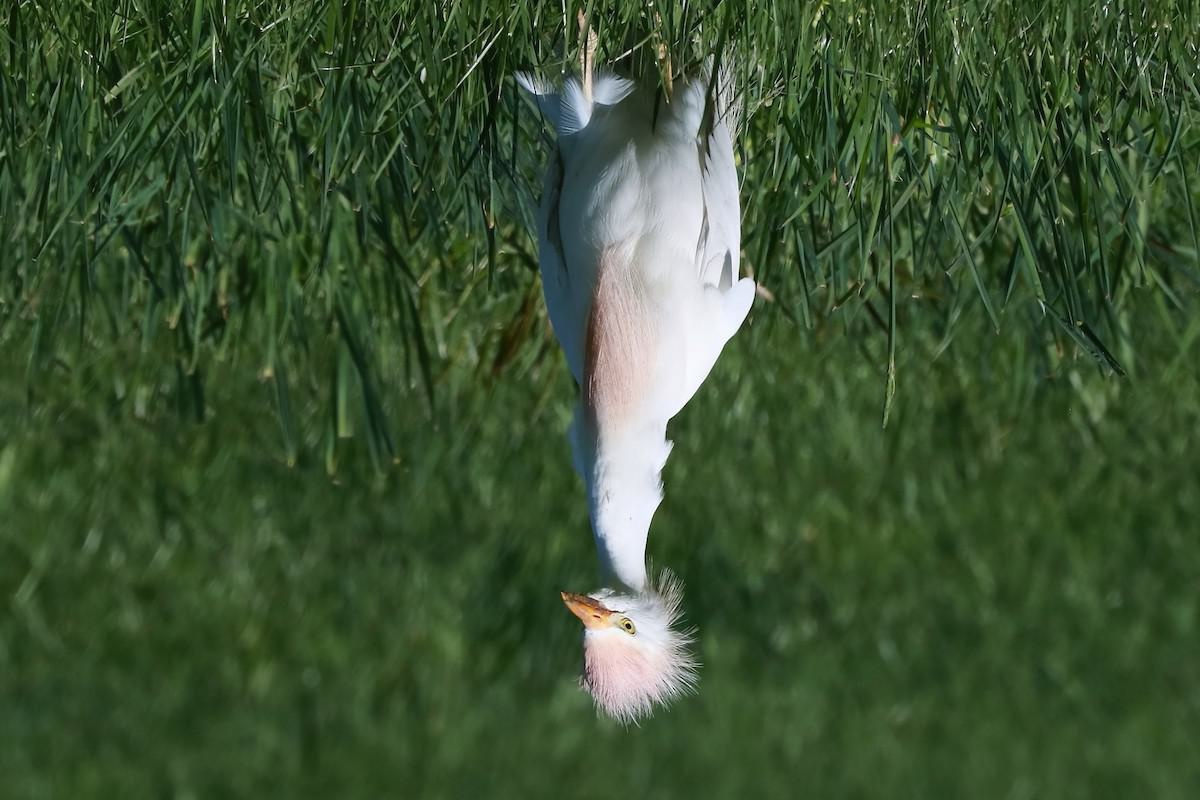egret: (517, 1, 751, 721)
